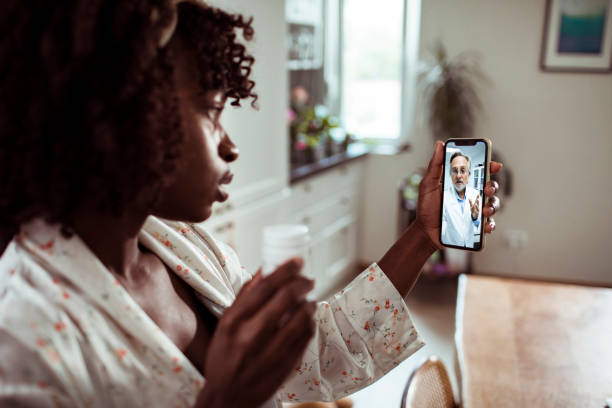without mask: (130, 62, 249, 240), (442, 154, 476, 193)
